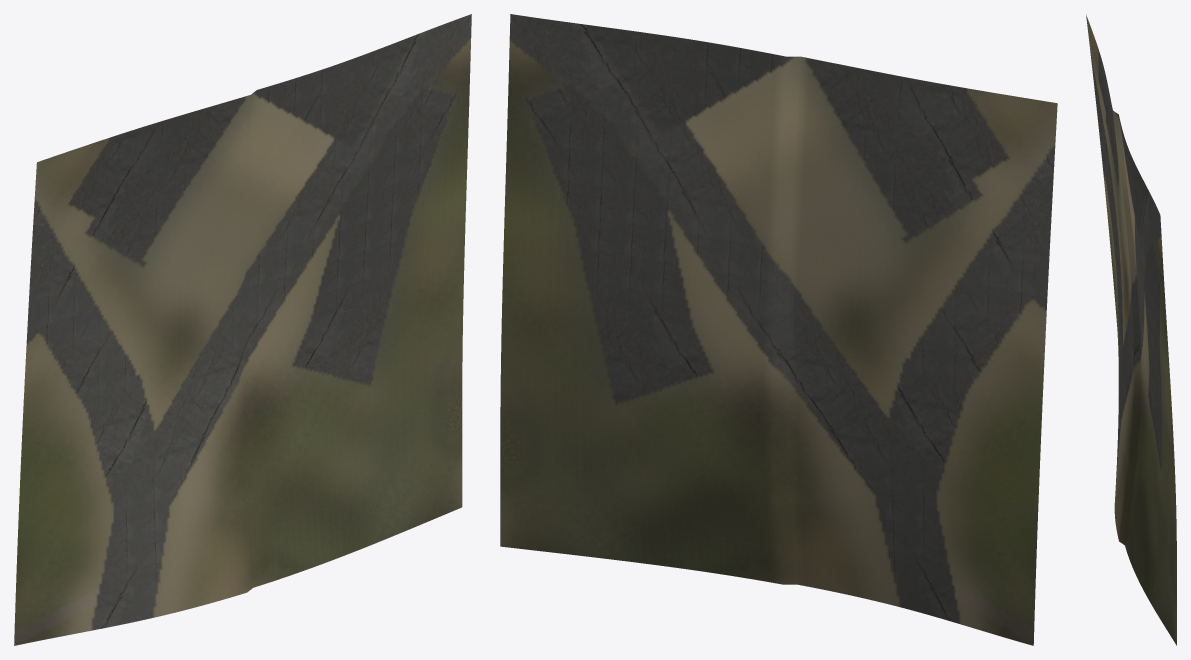
File: ground_core_06_04.obj
The picture shows the model from 3 angles, left to right: view 1: azimuth 30°, elevation 25°; view 2: azimuth 150°, elevation 25°; view 3: azimuth 270°, elevation 25°; orthographic projection. The views are drawn at different scales.
Parts seen in each view (by area): view 1: ground_core_06_04; view 2: ground_core_06_04; view 3: ground_core_06_04.
Boxes of the visible parts, x1,y1,x2,y2 form: ground_core_06_04: (14,14,471,645); ground_core_06_04: (500,14,1057,645); ground_core_06_04: (1086,14,1176,645).
Bounding box in the file's own units: 50 × 50 × 9.57.
Materials: 1 (1 with a texture image).
